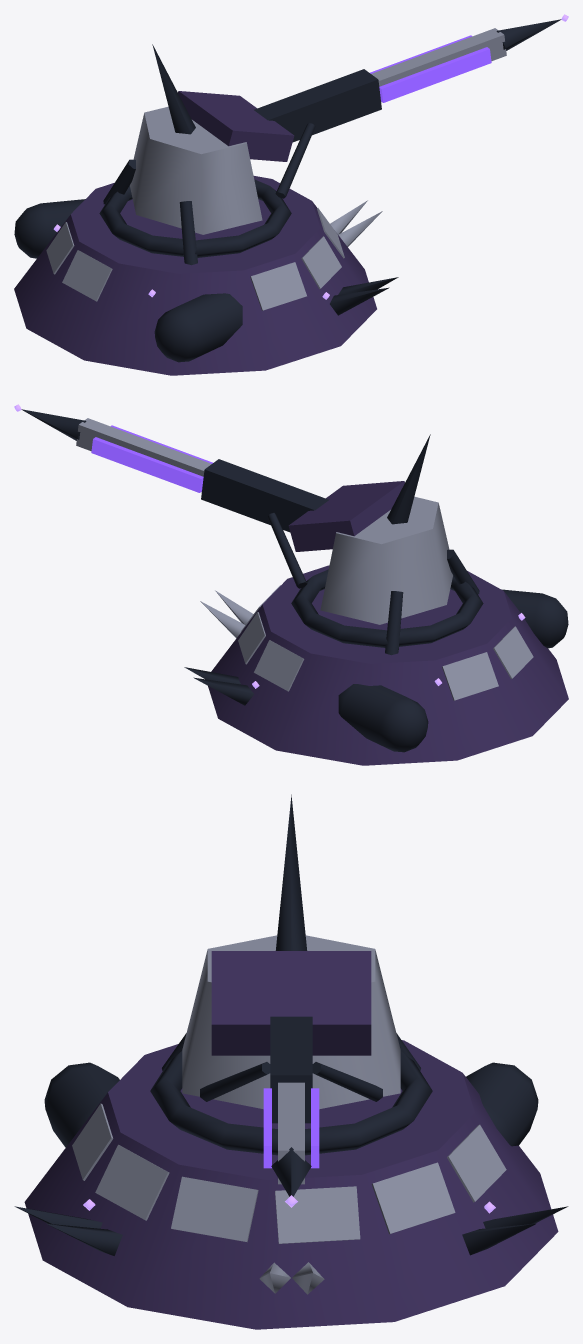
The model's file is sentinel-turret-hadron.glb.
3 renders of one model, top to bottom at view 1: azimuth 30°, elevation 25°; view 2: azimuth 150°, elevation 25°; view 3: azimuth 270°, elevation 25°, orthographic. The views are drawn at different scales.
Parts seen in each view (by area): view 1: base_frustum, head_wedge, rail_root, head_visor, base_collar, ammo_pod_l, rail_mid, ammo_pod_r, rail_vane_l, mirror_plate_2, mirror_plate_5, mirror_plate_1 (+7 smaller); view 2: base_frustum, head_wedge, rail_root, head_visor, base_collar, ammo_pod_r, rail_mid, ammo_pod_l, rail_vane_r, mirror_plate_6, mirror_plate_9, mirror_plate_5 (+8 smaller); view 3: base_frustum, head_visor, head_wedge, base_collar, mirror_plate_11, mirror_plate_0, mirror_plate_10, ammo_pod_r, ammo_pod_l, rail_root, mirror_plate_1, head_crest (+12 smaller).
Boxes of the visible parts, <box> form: base_frustum: <box>14,176,376,375</box>; head_wedge: <box>130,106,262,234</box>; rail_root: <box>254,69,381,142</box>; head_visor: <box>178,91,294,161</box>; base_collar: <box>99,179,291,257</box>; ammo_pod_l: <box>154,293,242,362</box>; rail_mid: <box>371,28,506,101</box>; ammo_pod_r: <box>14,199,85,258</box>; rail_vane_l: <box>379,47,491,102</box>; mirror_plate_2: <box>250,262,306,310</box>; mirror_plate_5: <box>62,250,112,301</box>; mirror_plate_1: <box>301,236,341,289</box>; base_frustum: <box>208,565,568,765</box>; head_wedge: <box>320,496,452,624</box>; rail_root: <box>201,459,328,532</box>; head_visor: <box>288,481,404,551</box>; base_collar: <box>291,569,483,647</box>; ammo_pod_r: <box>338,684,428,752</box>; rail_mid: <box>76,418,211,491</box>; ammo_pod_l: <box>502,589,568,648</box>; rail_vane_r: <box>91,437,203,492</box>; mirror_plate_6: <box>442,652,498,700</box>; mirror_plate_9: <box>254,640,304,691</box>; mirror_plate_5: <box>493,626,533,679</box>; base_frustum: <box>24,1040,558,1329</box>; head_visor: <box>211,951,371,1055</box>; head_wedge: <box>182,935,400,1109</box>; base_collar: <box>150,1051,432,1155</box>; mirror_plate_11: <box>275,1186,360,1243</box>; mirror_plate_0: <box>171,1176,258,1242</box>; mirror_plate_10: <box>371,1162,455,1234</box>; ammo_pod_r: <box>466,1062,538,1146</box>; ammo_pod_l: <box>44,1062,119,1147</box>; rail_root: <box>270,1016,312,1123</box>; mirror_plate_1: <box>95,1144,169,1220</box>; head_crest: <box>275,794,307,950</box>.
Size of the model in its own units: 110 by 52.56 by 67.53.
